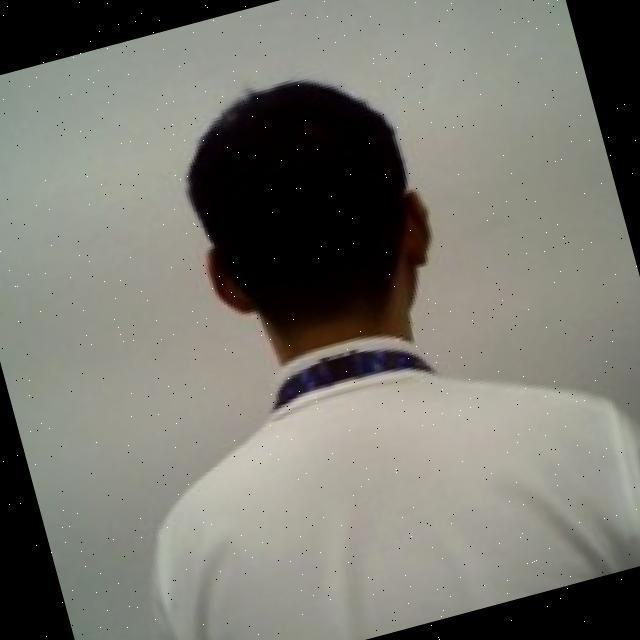no_gloves: (158, 51, 470, 384)
